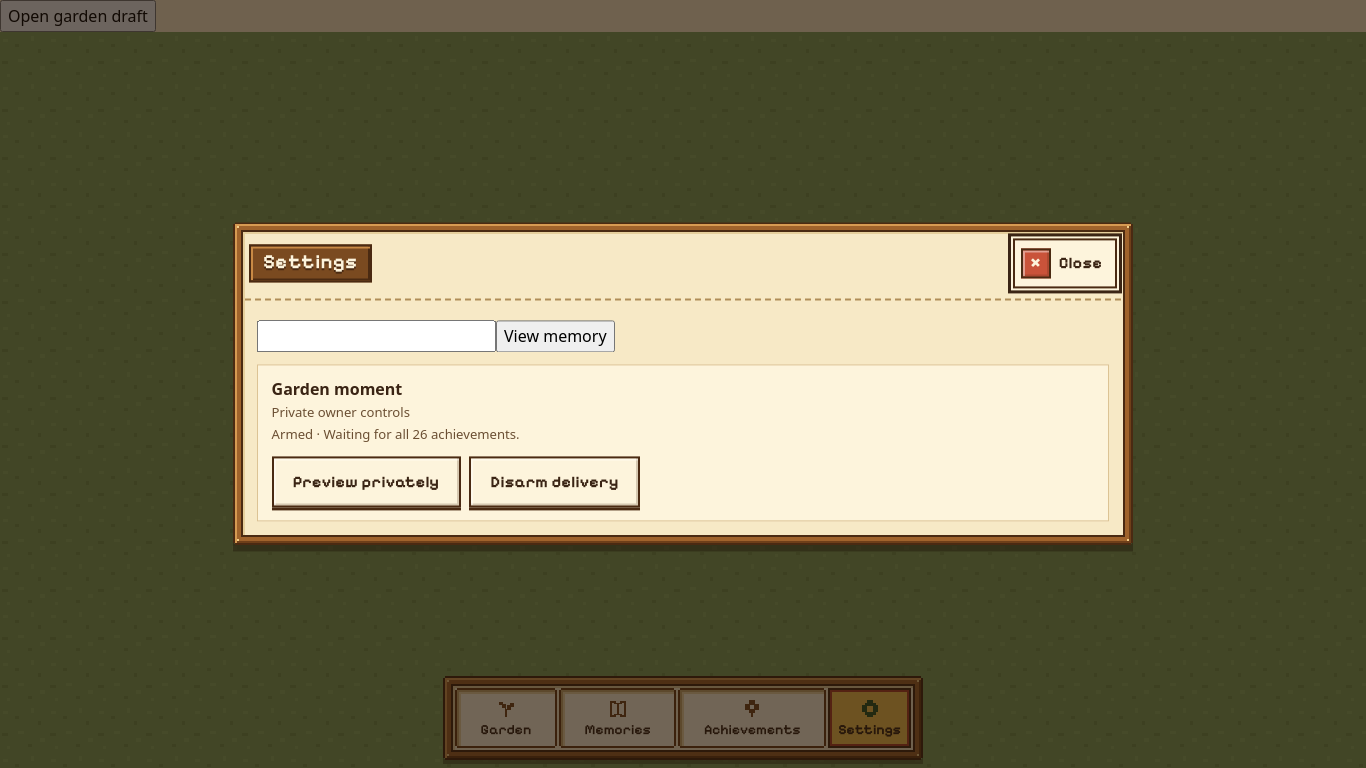
Scenario: abandons a preview when history leaves Settings and does not revive it on return
Click the button "Preview privately".
click(366, 482)  # box [272, 457, 460, 507]
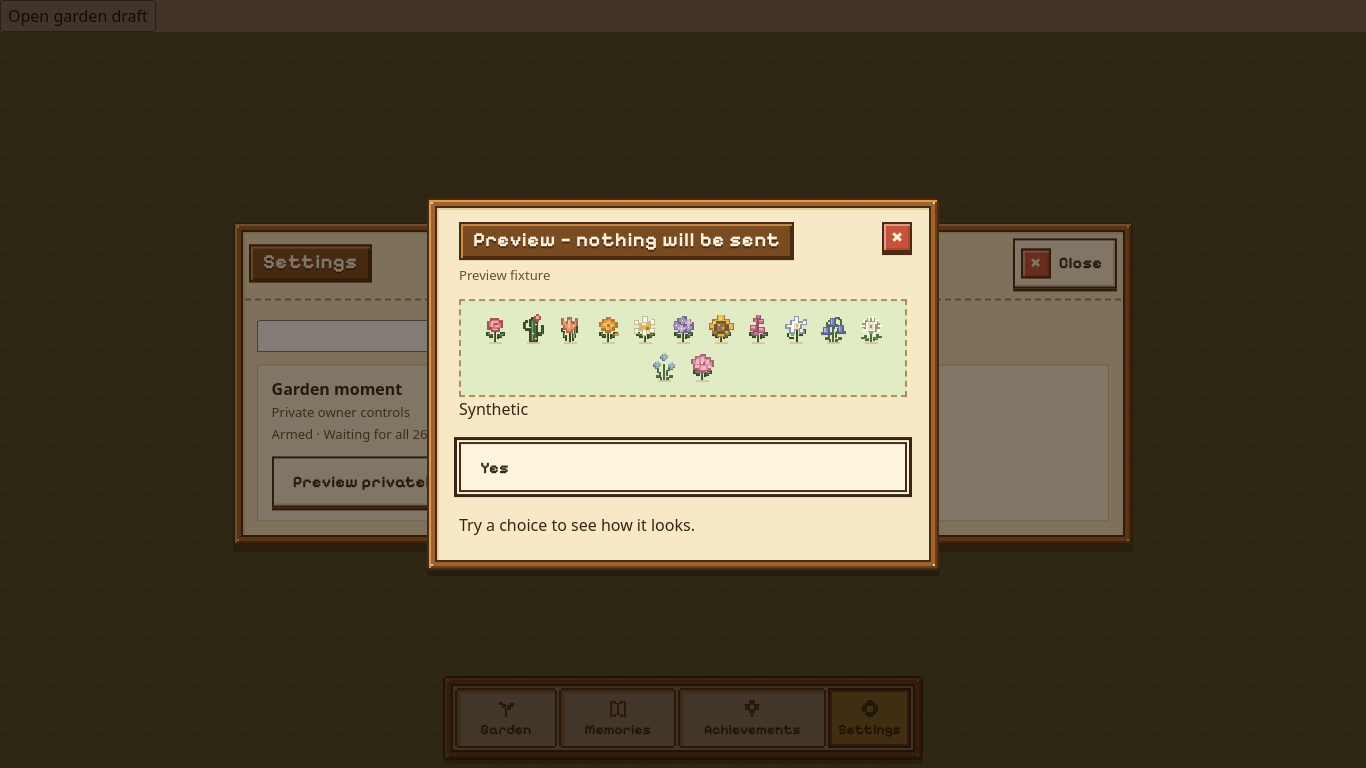
Check: the dialog "Preview — nothing will be sent" is shown, box [427, 198, 939, 570]
